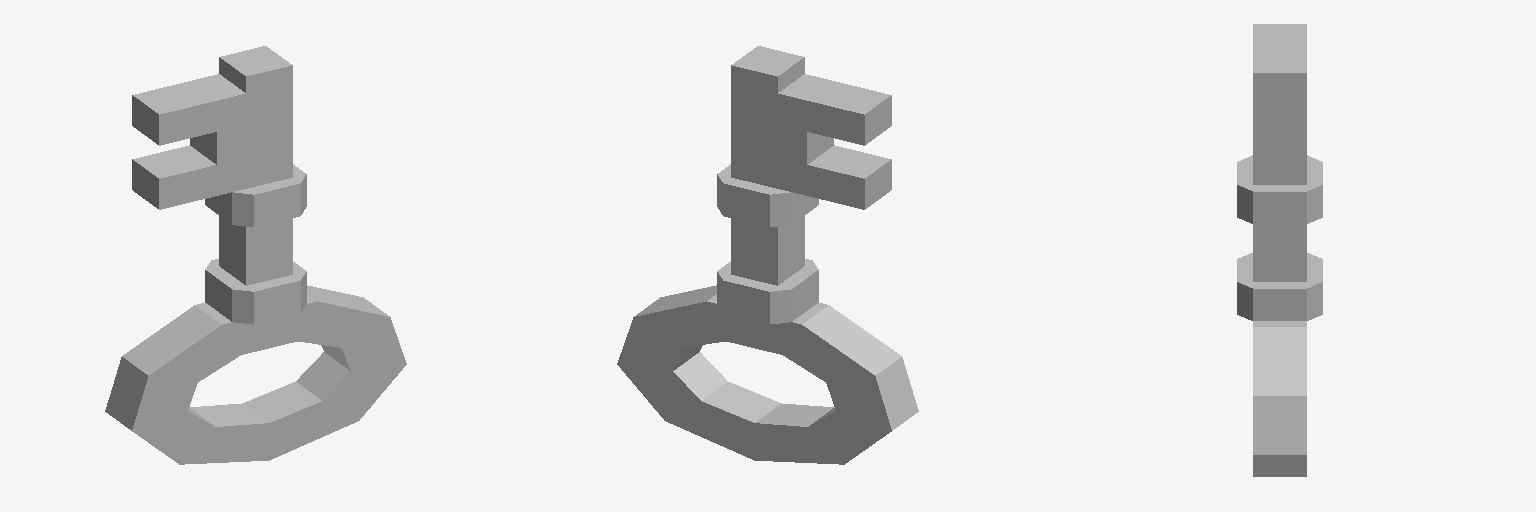
Rendered from key.obj.
The picture shows the model from 3 angles: view 1: azimuth 30°, elevation 25°; view 2: azimuth 150°, elevation 25°; view 3: azimuth 270°, elevation 25°; orthographic projection.
Parts seen in each view (by area): view 1: key; view 2: key; view 3: key.
Part boxes in pixels (left/top/right/bottom): key: left=105, top=46, right=406, bottom=464; key: left=617, top=46, right=918, bottom=464; key: left=1237, top=24, right=1322, bottom=476.
Size of the model in its own units: 0.7386 by 1 by 0.2.